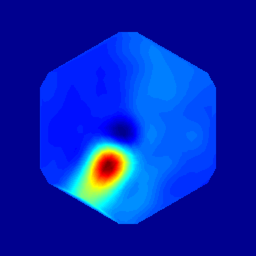ship: (110, 122, 131, 150)
wave: (83, 141, 127, 197)
